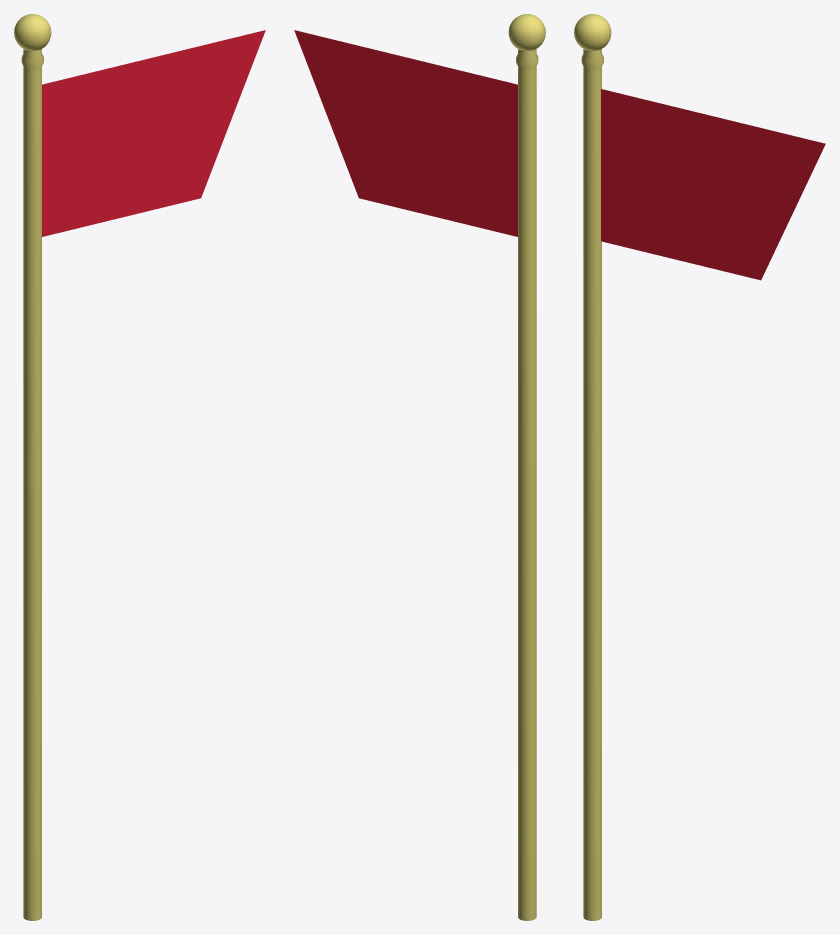
File: flag.fbx
3 renders of one model, left to right at view 1: azimuth 30°, elevation 25°; view 2: azimuth 150°, elevation 25°; view 3: azimuth 330°, elevation 25°, orthographic.
Parts seen in each view (by area): view 1: Plane, Cylinder; view 2: Plane, Cylinder; view 3: Plane, Cylinder.
Part boxes in pixels (x1,y1,x2,y2): Plane: (42,30,265,236); Cylinder: (14,14,51,920); Plane: (294,30,517,236); Cylinder: (508,14,545,920); Plane: (601,89,825,280); Cylinder: (574,14,611,920).
Bounding box in the file's own units: 154 × 532 × 20.
